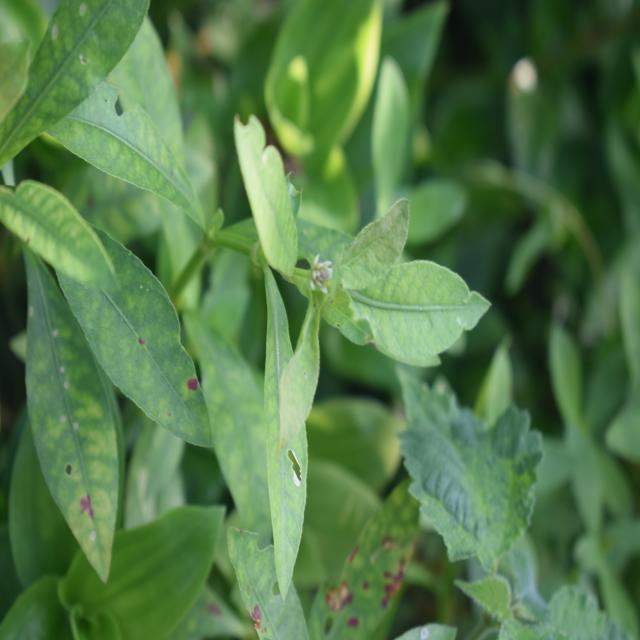Alligatorweed: (180, 113, 457, 541)
